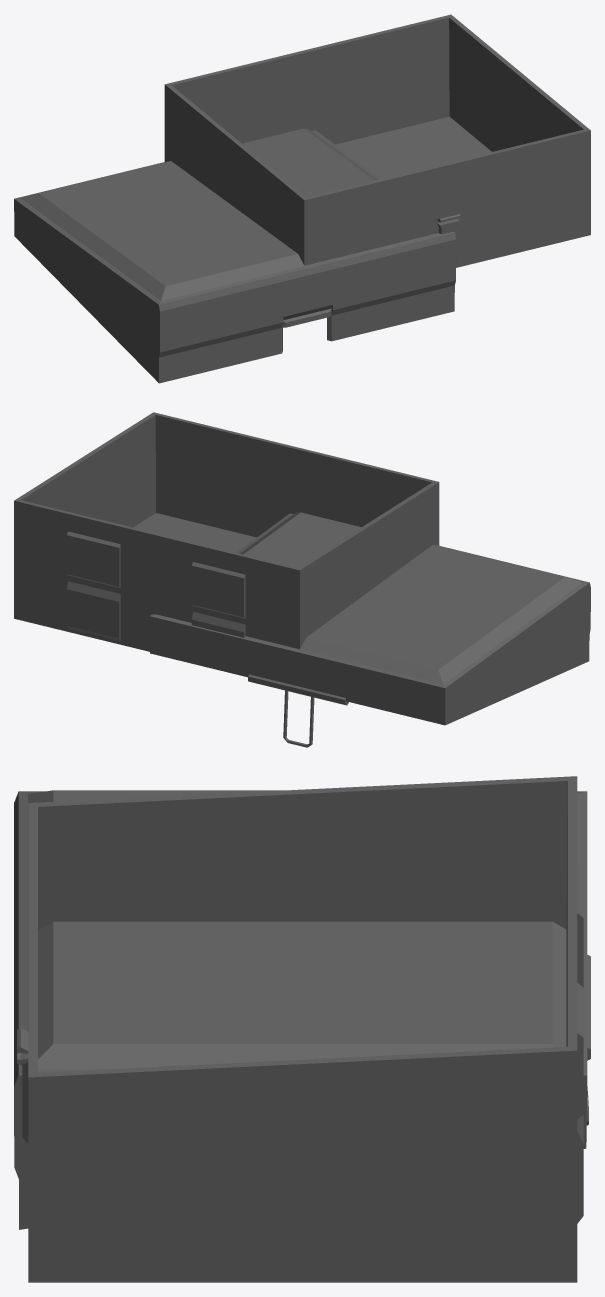
Rendered from MetalAmmoBoxV1_Large.glb.
The picture shows the model from 3 angles, top to bottom: view 1: azimuth 30°, elevation 25°; view 2: azimuth 150°, elevation 25°; view 3: azimuth 270°, elevation 25°; orthographic projection. The views are drawn at different scales.
Visible parts, largest first — view 1: MetalAmmoBoxV1_Large, MetalAmmoBoxV1_Large_Lid; view 2: MetalAmmoBoxV1_Large, MetalAmmoBoxV1_Large_Lid, MetalAmmoBoxV1_Large_Lid_Lock; view 3: MetalAmmoBoxV1_Large, MetalAmmoBoxV1_Large_Lid.
Boxes of the visible parts, box(x1,y1,x2,y2) form: MetalAmmoBoxV1_Large: box(164, 14, 590, 267); MetalAmmoBoxV1_Large_Lid: box(14, 128, 456, 383); MetalAmmoBoxV1_Large: box(14, 412, 439, 651); MetalAmmoBoxV1_Large_Lid: box(149, 512, 590, 725); MetalAmmoBoxV1_Large_Lid_Lock: box(283, 690, 314, 747); MetalAmmoBoxV1_Large: box(17, 776, 583, 1282); MetalAmmoBoxV1_Large_Lid: box(14, 790, 590, 1229).
Size of the model in its own units: 0.5161 by 0.1972 by 0.3022.
Materials: 1 (1 with a texture image).
